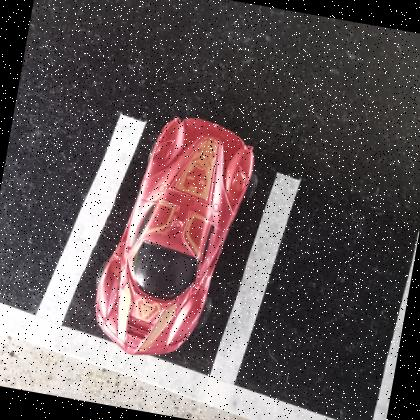Car: (94, 115, 255, 355)
